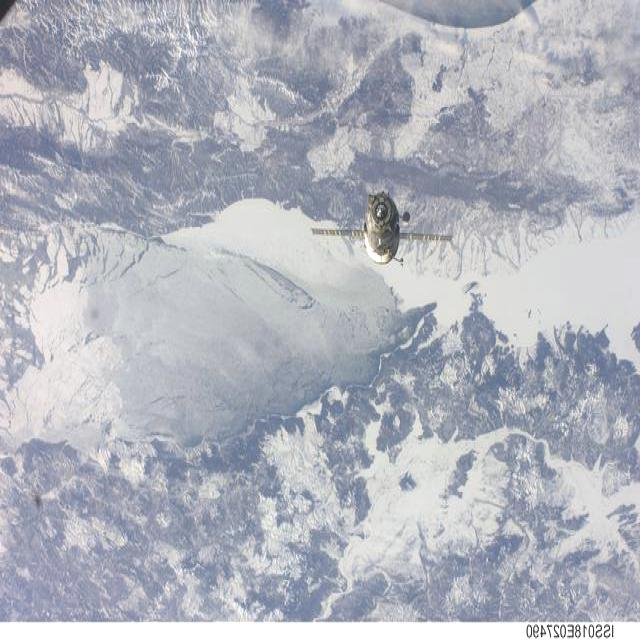satellite: (311, 192, 452, 263)
